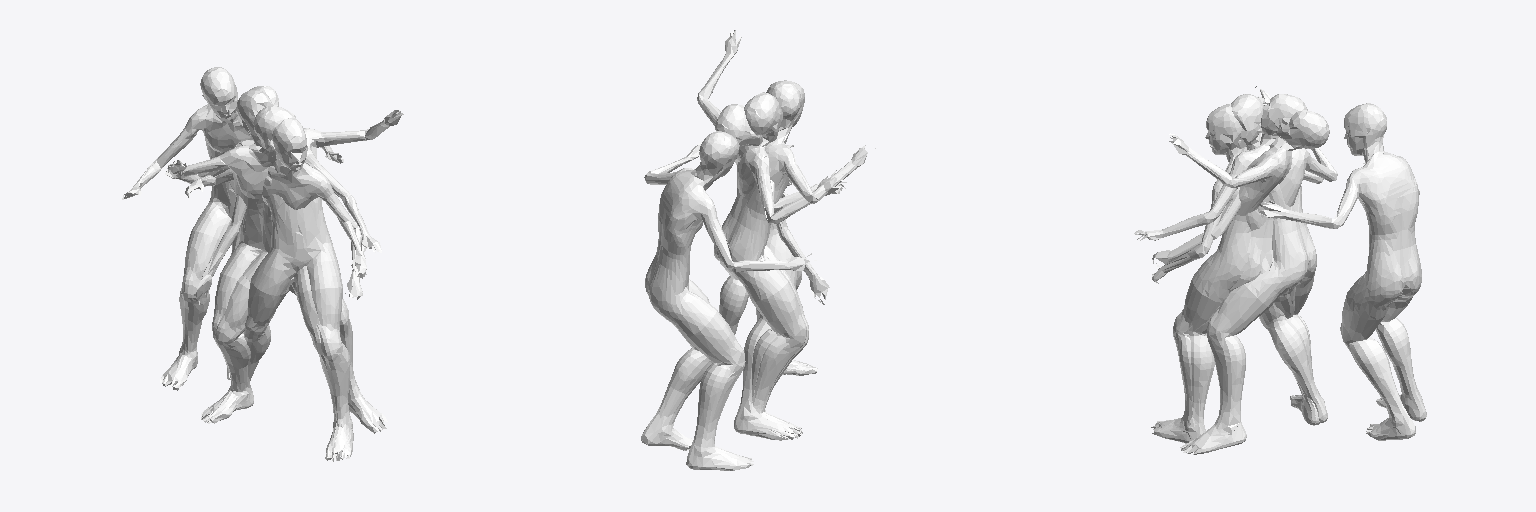
Rendered from man2-o2.obj.
The picture shows the model from 3 angles: view 1: azimuth 30°, elevation 25°; view 2: azimuth 150°, elevation 25°; view 3: azimuth 270°, elevation 25°; orthographic projection.
Parts seen in each view (by area): view 1: Null.3; view 2: Null.3; view 3: Null.3.
Part boxes in pixels (left/top/right/bottom): Null.3: left=122, top=67, right=403, bottom=461; Null.3: left=641, top=30, right=875, bottom=470; Null.3: left=1134, top=86, right=1426, bottom=454.
Size of the model in its own units: 9.4 by 15.53 by 12.53.